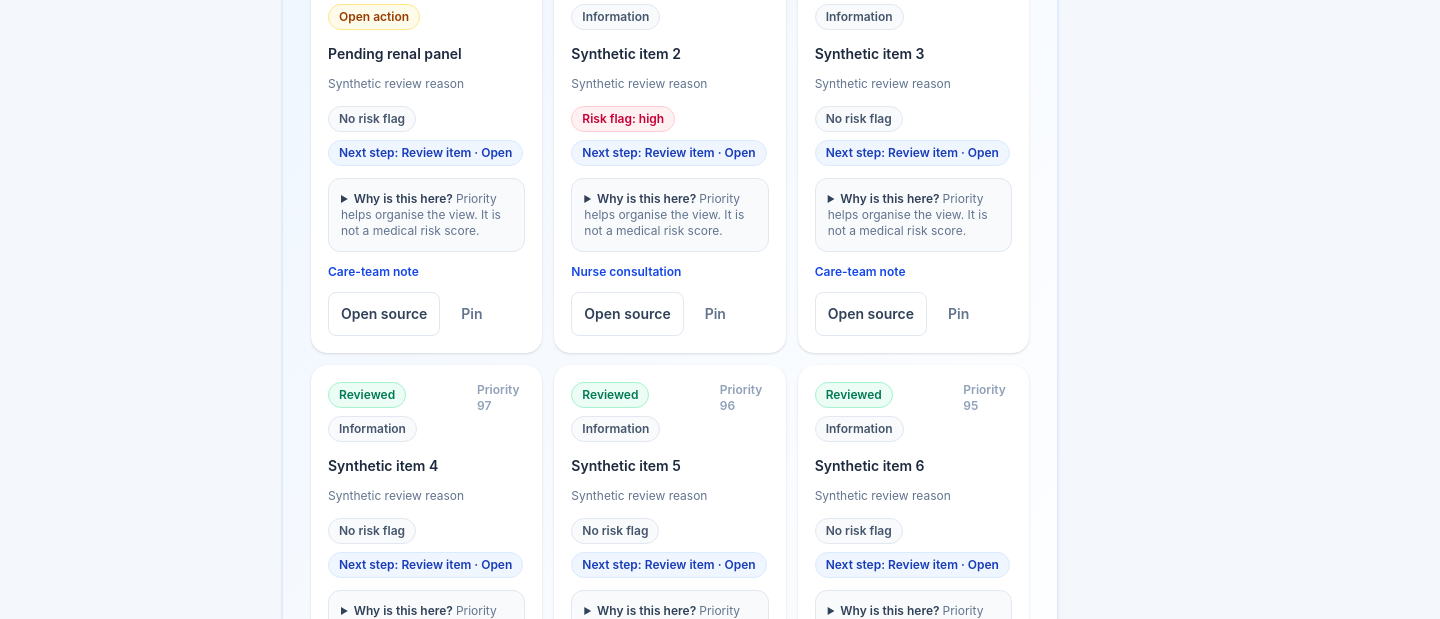
Test: Gate B shared care note › keeps the selected source visible after focus fades and closes it cleanly
(page scrolled)
Click the button "Open source" below "Open action".
click(384, 314)  # box [328,292,440,336]
Wait 3001 ms
(page scrolled)
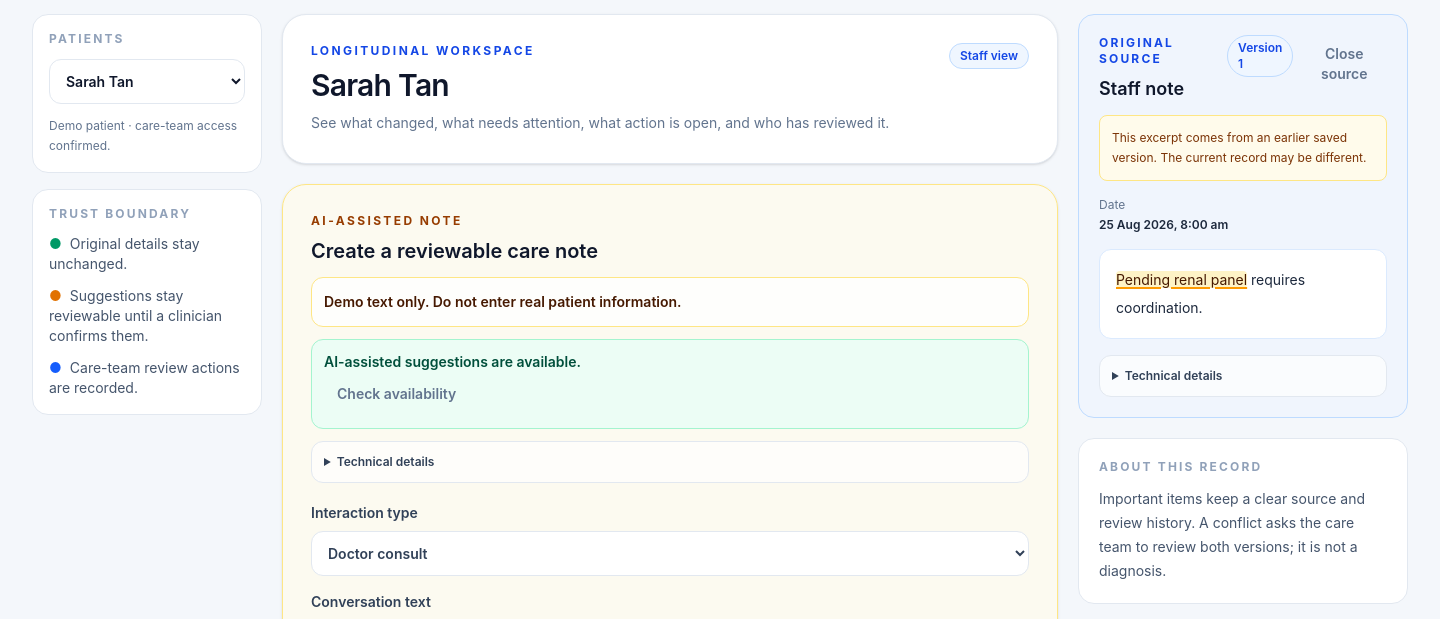
expect the element "Original source" is shown: met, box [1078,14,1408,418]
Click the button "Close source".
click(1344, 64)  # box [1301,34,1387,92]
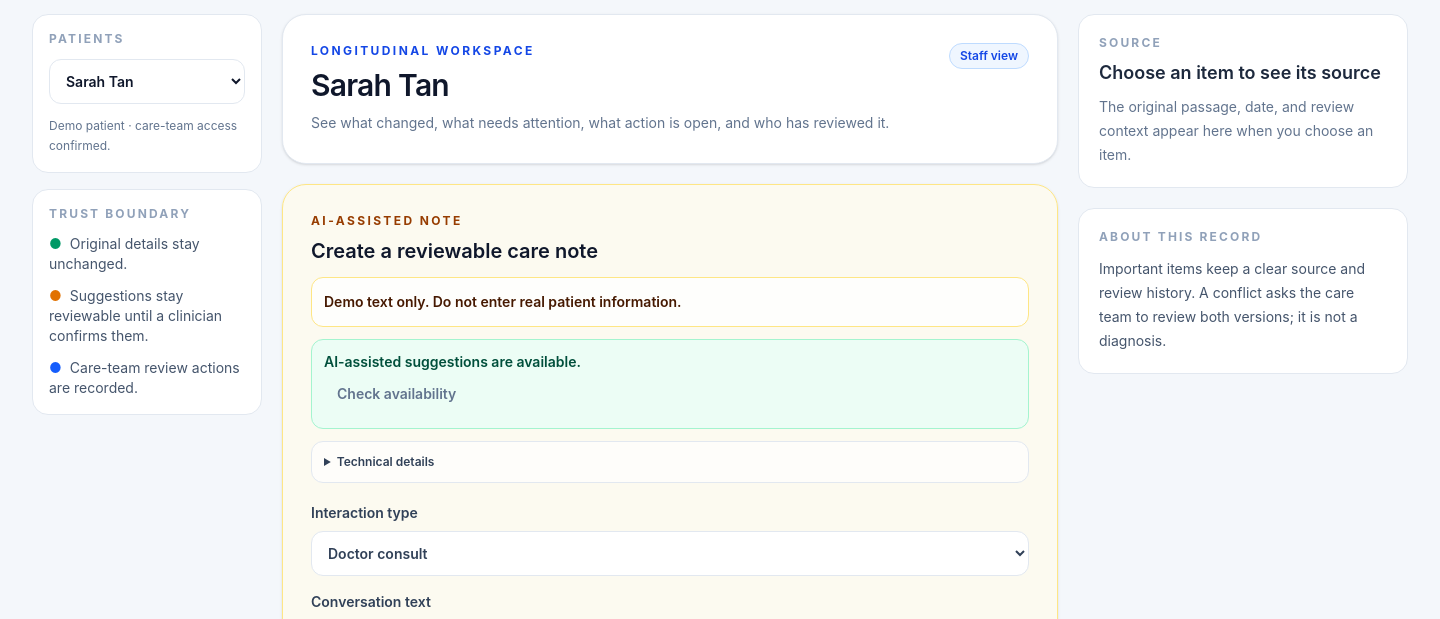
expect the text "Original source" is gone: met
